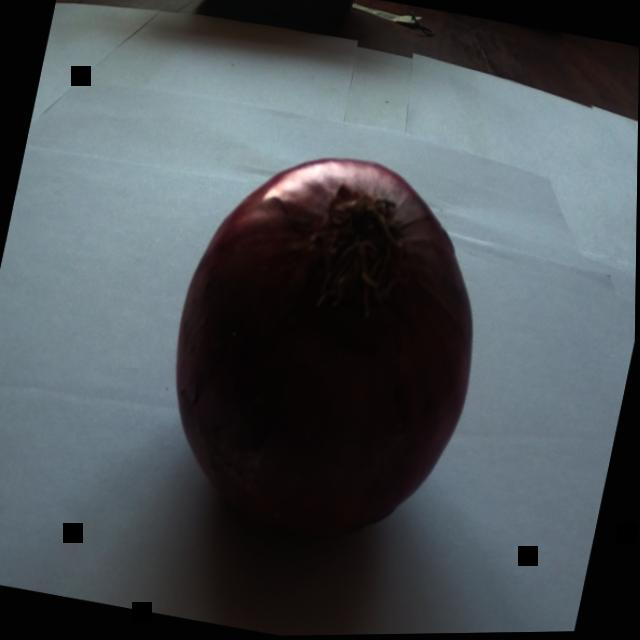Onion: (110, 98, 547, 596)
